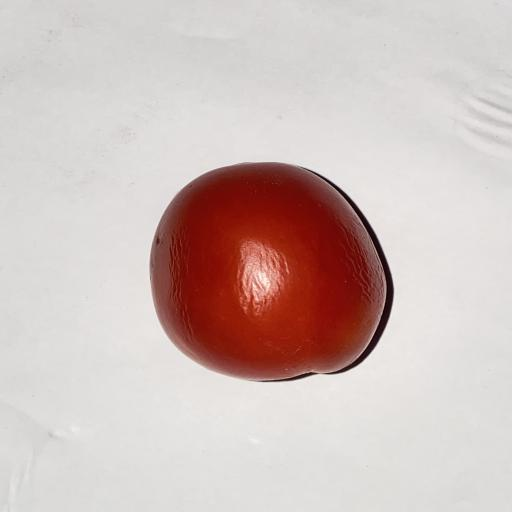overipe: (150, 163, 387, 381)
